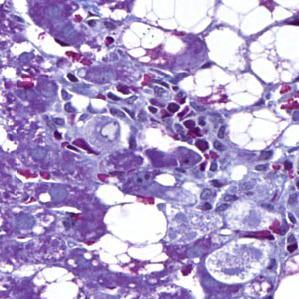ballooning: (174, 63, 265, 113), (222, 103, 295, 154), (248, 20, 296, 88), (121, 20, 188, 68), (129, 1, 217, 37), (209, 3, 296, 39)
